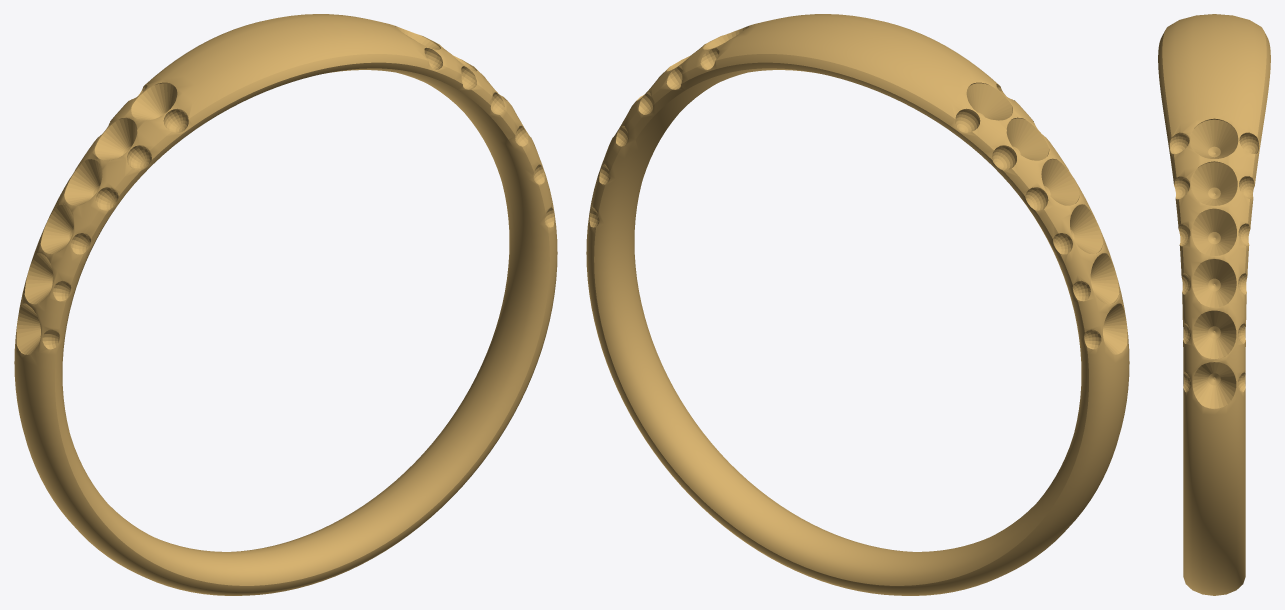
File: reverse-tapered-scalloped-u-cut.glb
3 views of the same model, side by side, from view 1: azimuth 30°, elevation 25°; view 2: azimuth 150°, elevation 25°; view 3: azimuth 270°, elevation 25° (orthographic). The views are drawn at different scales.
Parts seen in each view (by area): view 1: Band; view 2: Band; view 3: Band.
Part boxes in pixels (bbox=[...]): Band: bbox=[14, 14, 557, 595]; Band: bbox=[586, 14, 1129, 595]; Band: bbox=[1158, 14, 1270, 595].
Bounding box in the file's own units: 19.6 × 19.6 × 3.8.
